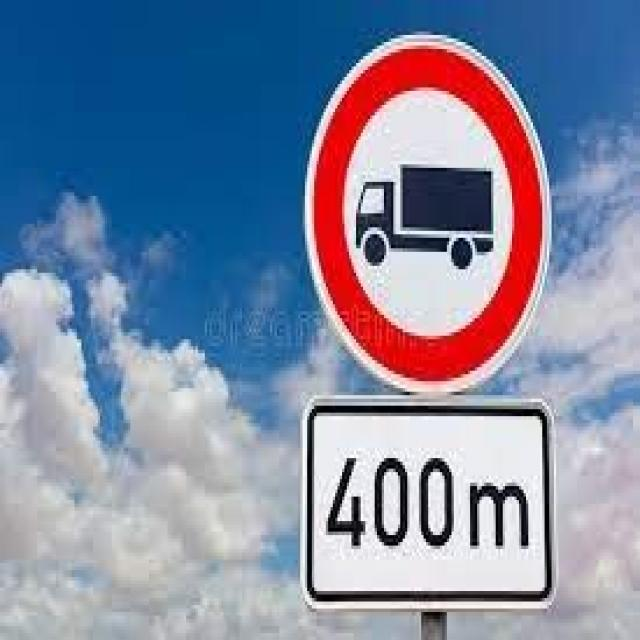do_not_enter: (290, 25, 560, 398)
